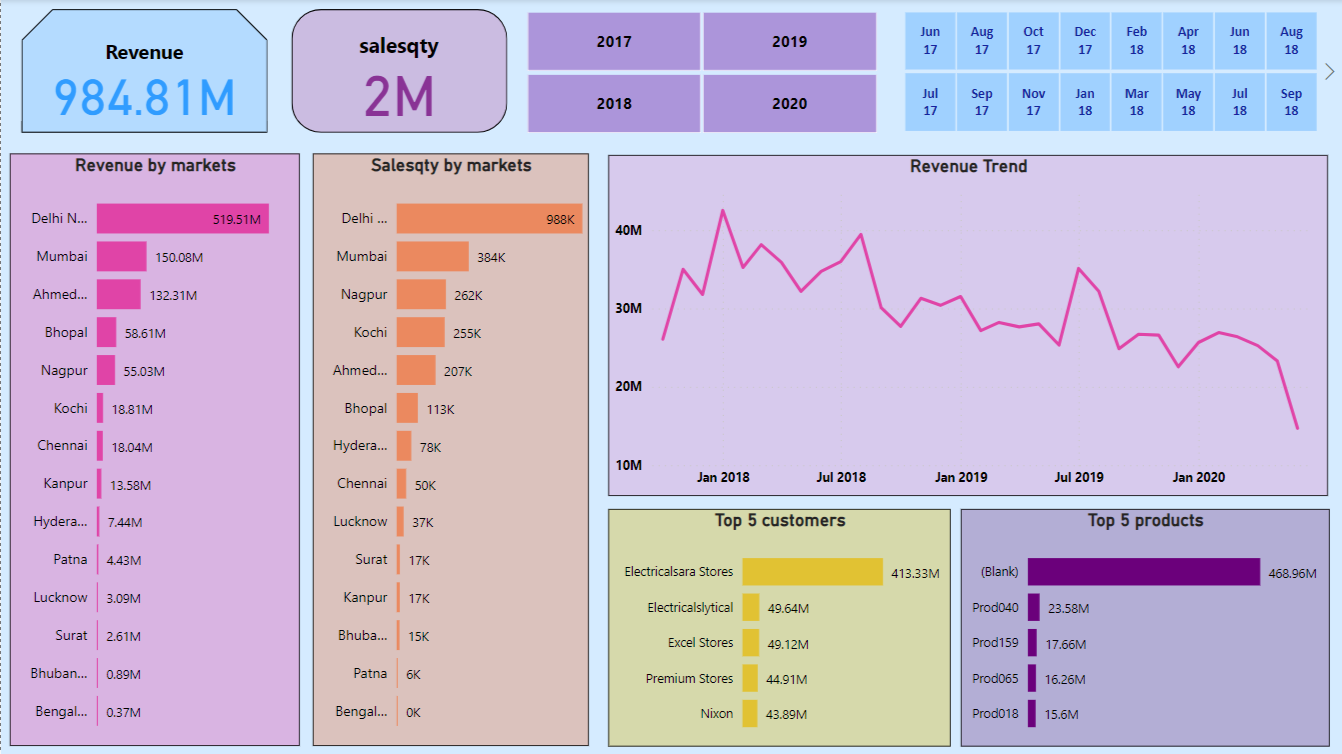

The dashboard page shown, as its layout file describes it:
{"tool":"powerbi","page":{"name":"Page 1","canvas":[1280,720],"ordinal":0},"visuals":[{"type":"cardVisual","fields":{"Data":["BaseMeasures.Revenue"]},"box":[15,5,245,128.3],"z":0},{"type":"cardVisual","fields":{"Data":["BaseMeasures.salesqty"]},"box":[271.8,4.8,216.2,128.7],"z":1000},{"type":"barChart","title":"Revenue by markets","fields":{"Y":["BaseMeasures.Revenue"],"Category":["sales markets.markets_name"]},"box":[8.3,147.8,276.7,565],"z":2000},{"type":"barChart","title":"Salesqty by markets","fields":{"Y":["BaseMeasures.salesqty"],"Category":["sales markets.markets_name"]},"box":[298.3,147.8,263.3,565],"z":3000},{"type":"slicer","fields":{"Values":["sales date.year"]},"box":[476.8,6.4,383,128.7],"z":4000},{"type":"slicer","fields":{"Values":["sales date.cy_date"]},"box":[837.6,6.4,441.9,127.2],"z":5000},{"type":"barChart","title":"Top 5 customers","fields":{"Y":["BaseMeasures.Revenue"],"Category":["sales customers.custmer_name"]},"box":[580,486.7,326.7,226.7],"z":6000},{"type":"barChart","title":"Top 5 products","fields":{"Y":["BaseMeasures.Revenue"],"Category":["sales products.product_code"]},"box":[916.7,486.7,351.7,226.7],"z":7000},{"type":"lineChart","title":"Revenue Trend","fields":{"Y":["BaseMeasures.Revenue"],"Category":["sales date.cy_date"]},"box":[580,148.3,686.7,325],"z":8000}]}

Visuals, with their boxes in screenshot pixels (x1, y1, x2, y2), scaled from the page's 1280x720 canvas onto the 1342x754 screenshot:
cardVisual - BaseMeasures.Revenue: Rect(16, 5, 273, 140)
cardVisual - BaseMeasures.salesqty: Rect(285, 5, 512, 140)
"Revenue by markets" barChart: Rect(9, 155, 299, 746)
"Salesqty by markets" barChart: Rect(313, 155, 589, 746)
slicer - sales date.year: Rect(500, 7, 901, 141)
slicer - sales date.cy_date: Rect(878, 7, 1341, 140)
"Top 5 customers" barChart: Rect(608, 510, 951, 747)
"Top 5 products" barChart: Rect(961, 510, 1330, 747)
"Revenue Trend" lineChart: Rect(608, 155, 1328, 496)
